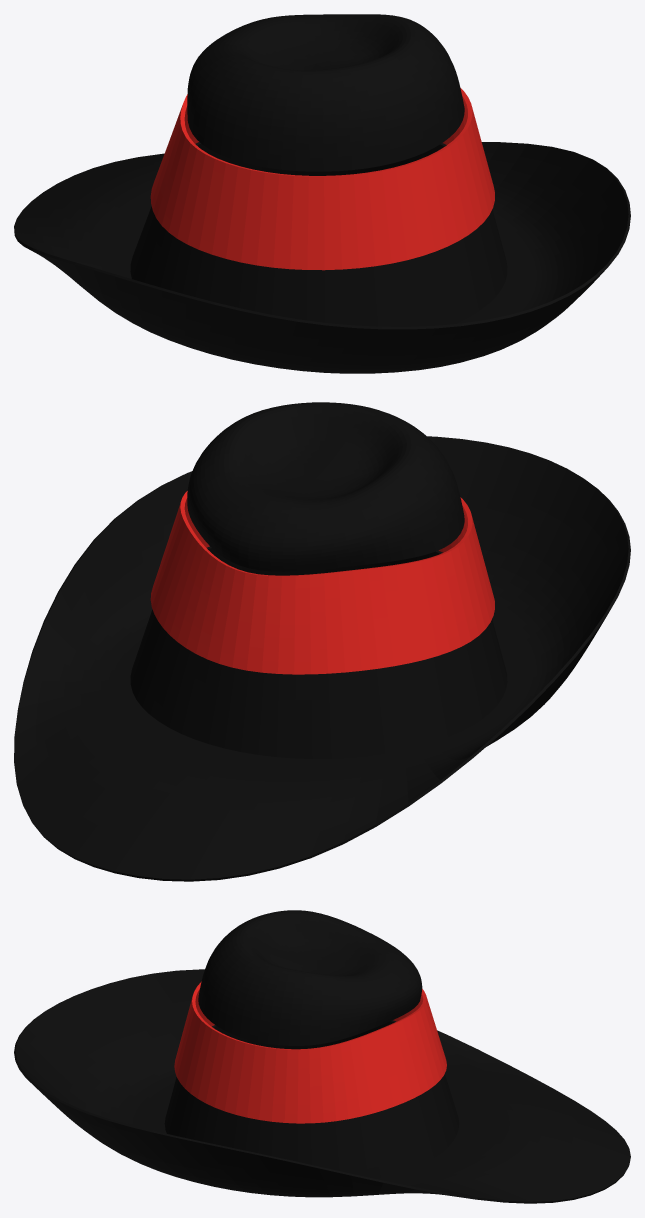
File: FedoraDone.fbx
The picture shows the model from 3 angles, top to bottom: view 1: azimuth 30°, elevation 25°; view 2: azimuth 150°, elevation 25°; view 3: azimuth 270°, elevation 25°; orthographic projection. The views are drawn at different scales.
Visible parts, largest first — view 1: Cylinder, Cylinder.001; view 2: Cylinder, Cylinder.001; view 3: Cylinder, Cylinder.001.
Boxes of the visible parts, x1,y1,x2,y2 form: Cylinder: [14, 14, 630, 373]; Cylinder.001: [150, 88, 494, 270]; Cylinder: [14, 402, 630, 881]; Cylinder.001: [150, 491, 494, 674]; Cylinder: [14, 910, 630, 1203]; Cylinder.001: [174, 981, 446, 1123].
Size of the model in its own units: 389 by 218 by 553.
